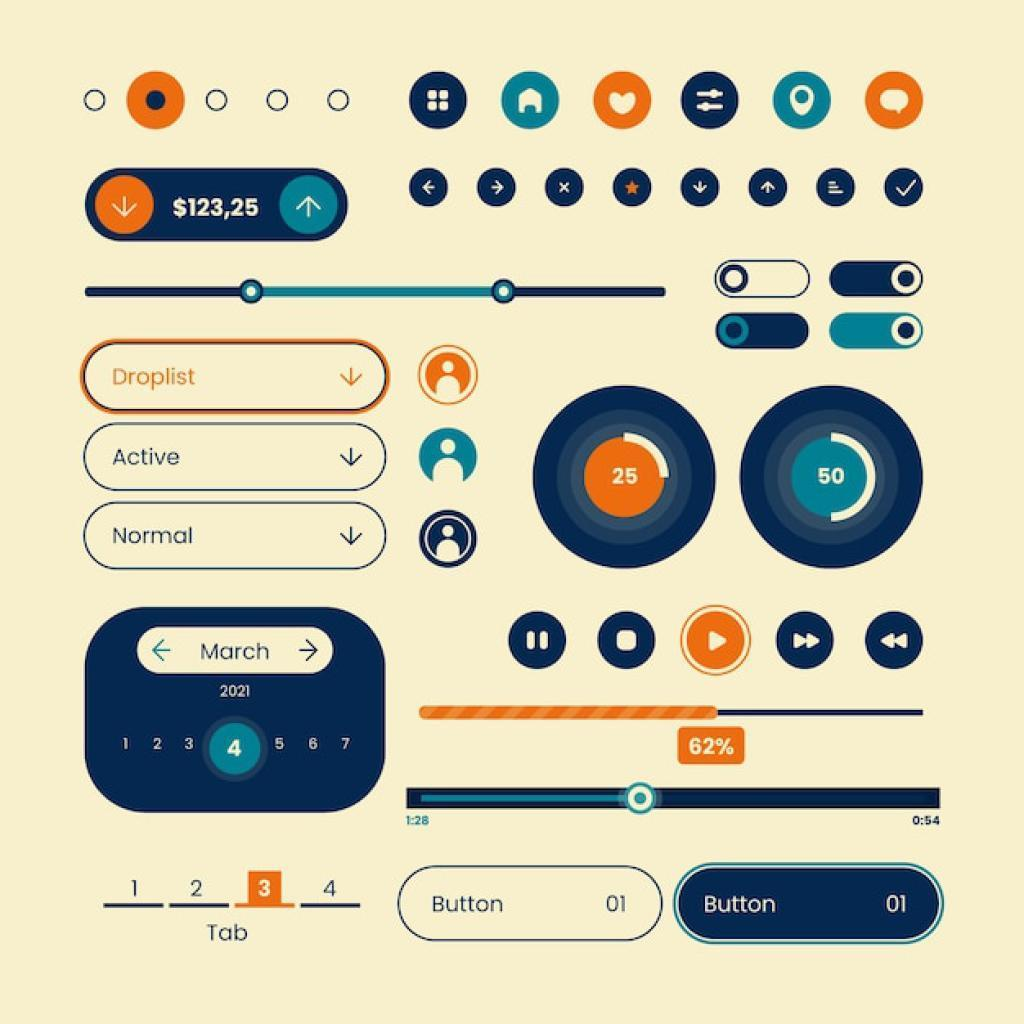button: (674, 866, 945, 947), (397, 865, 663, 942)
icon: (879, 87, 914, 117), (515, 87, 547, 119), (788, 87, 817, 121), (607, 90, 640, 119), (693, 87, 726, 115), (425, 87, 454, 114), (525, 627, 554, 653), (707, 626, 732, 656), (791, 630, 823, 653), (881, 634, 914, 652)
radio: (616, 628, 639, 653)
slider: (81, 261, 685, 322), (419, 697, 927, 758), (405, 780, 952, 835)
switch: (827, 308, 927, 356), (715, 311, 812, 353), (713, 262, 812, 301), (826, 261, 924, 300)
